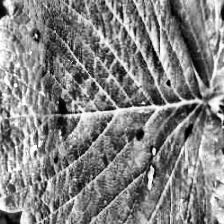Leaf Spot: (0, 0, 224, 224), (156, 0, 224, 91)
